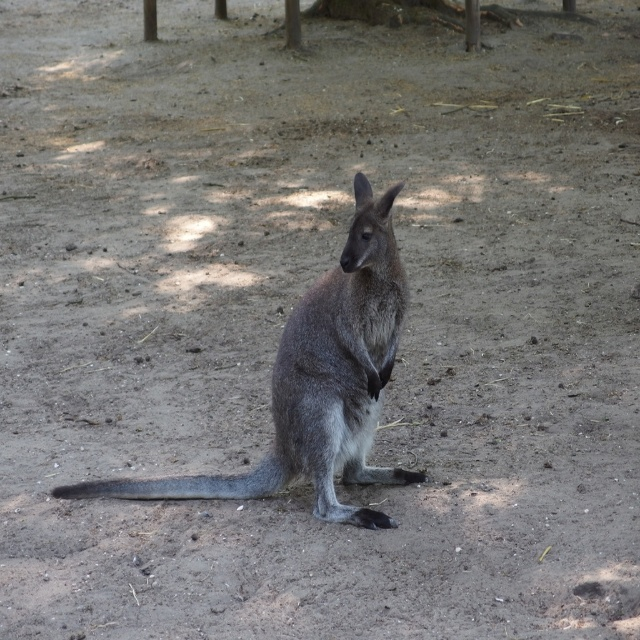Kangaroo: (52, 169, 424, 530)
